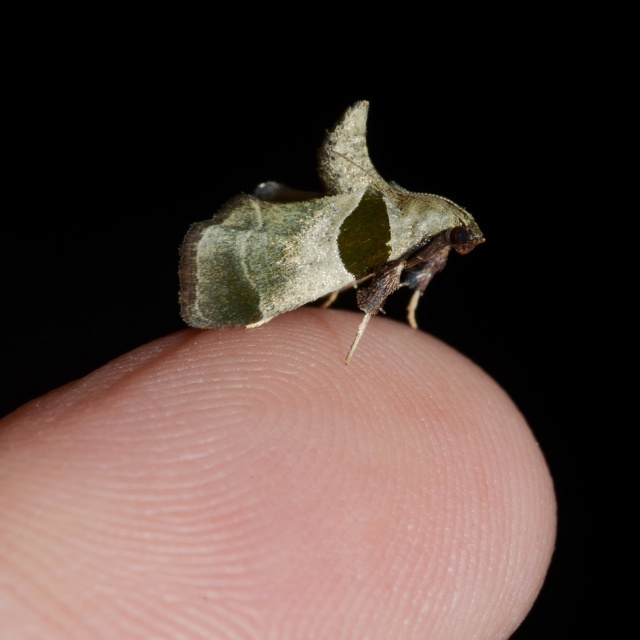Moths and butterflies: (181, 96, 494, 368)
